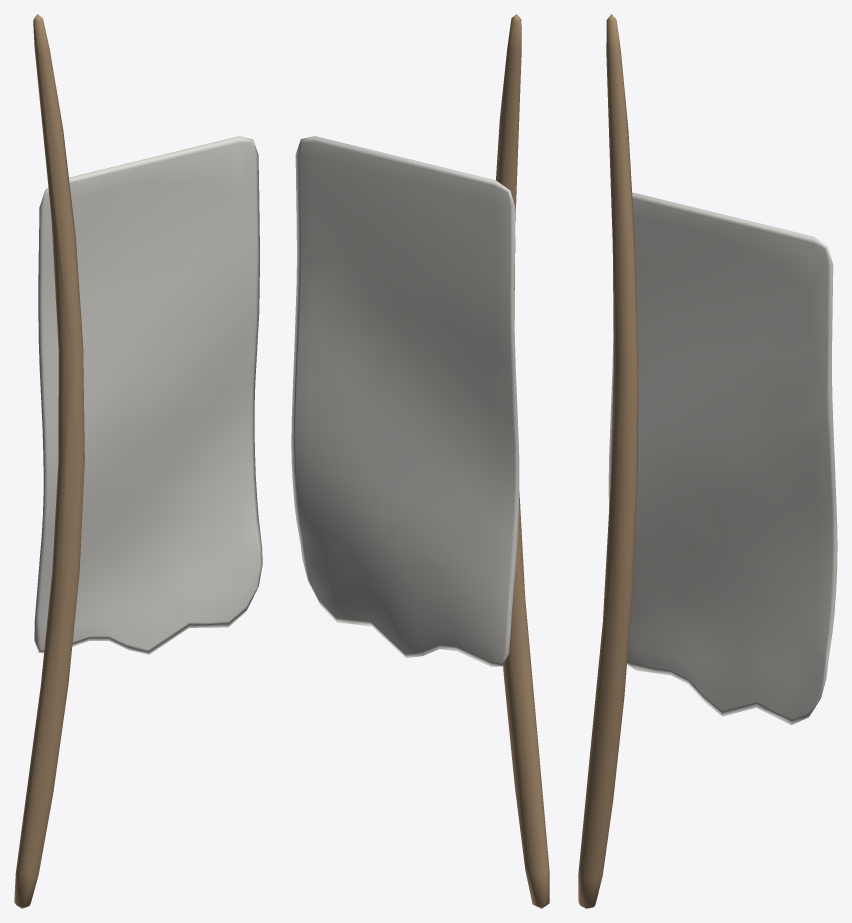
File: banner.glb
3 renders of one model, left to right at view 1: azimuth 30°, elevation 25°; view 2: azimuth 150°, elevation 25°; view 3: azimuth 330°, elevation 25°, orthographic.
Visible parts, largest first — view 1: BannerCloth, Pole; view 2: BannerCloth, Pole; view 3: BannerCloth, Pole.
Boxes of the visible parts, bbox=[...] form: BannerCloth: bbox=[34, 136, 262, 654]; Pole: bbox=[14, 14, 84, 908]; BannerCloth: bbox=[291, 136, 519, 666]; Pole: bbox=[496, 14, 549, 908]; BannerCloth: bbox=[608, 192, 837, 725]; Pole: bbox=[578, 14, 638, 908].
Bounding box in the file's own units: 0.6136 × 2.1 × 0.0988.
